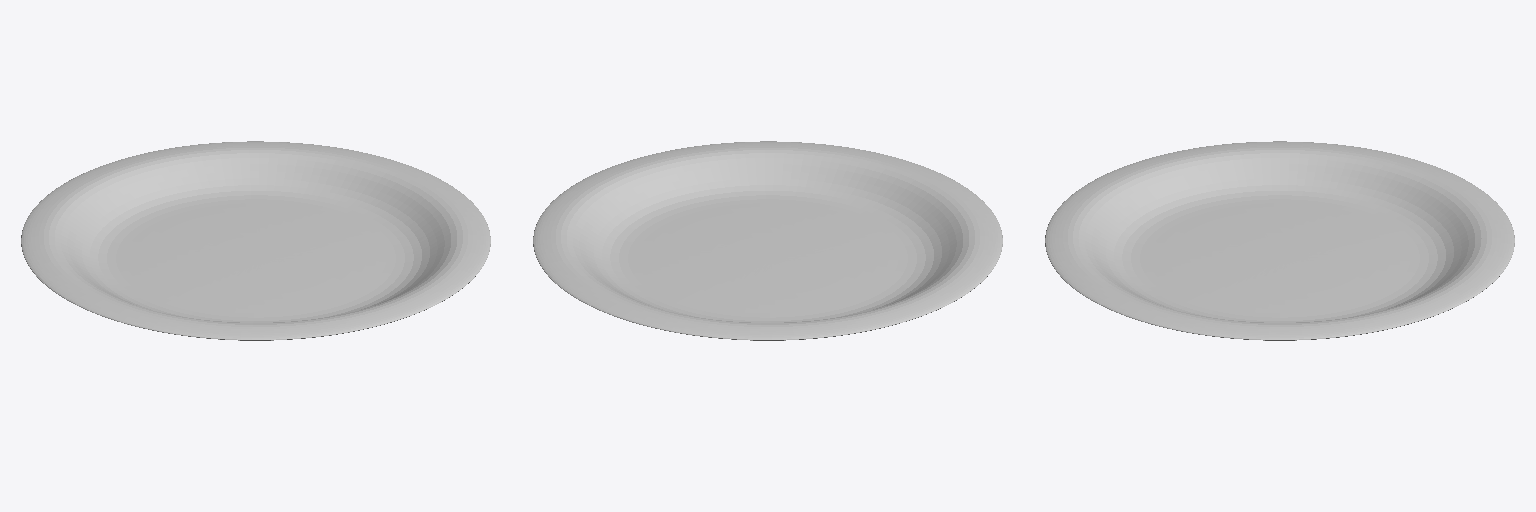
The model's file is assiette.obj.
3 views of the same model, side by side, from view 1: azimuth 30°, elevation 25°; view 2: azimuth 150°, elevation 25°; view 3: azimuth 270°, elevation 25° (orthographic).
Parts seen in each view (by area): view 1: Sphère; view 2: Sphère; view 3: Sphère.
Boxes of the visible parts, x1=… form: Sphère: x1=21, y1=141, x2=490, y2=340; Sphère: x1=533, y1=141, x2=1002, y2=340; Sphère: x1=1045, y1=141, x2=1514, y2=340.
Size of the model in its own units: 0.1974 by 0.0173 by 0.1974.